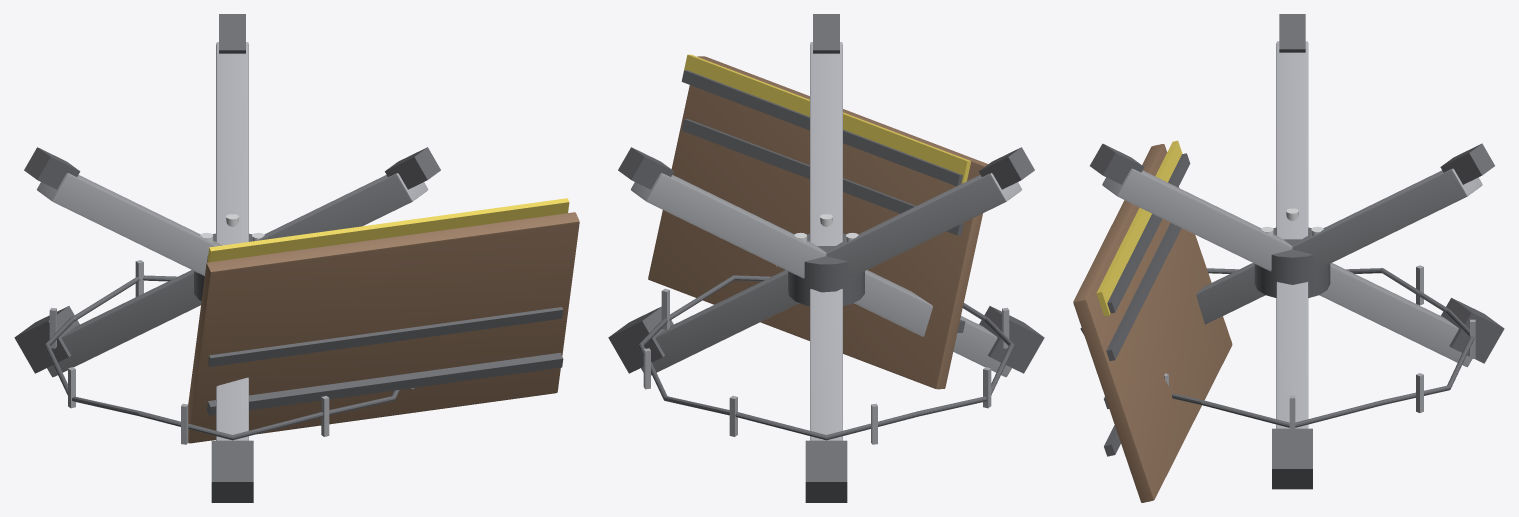
Rendered from DD_barricade_metal.fbx.
The picture shows the model from 3 angles, left to right: view 1: azimuth 30°, elevation 25°; view 2: azimuth 150°, elevation 25°; view 3: azimuth 270°, elevation 25°; orthographic projection. The views are drawn at different scales.
Parts seen in each view (by area): view 1: DD_barricade_metal; view 2: DD_barricade_metal; view 3: DD_barricade_metal.
Boxes of the visible parts, x1=… form: DD_barricade_metal: x1=14, y1=14, x2=579, y2=502; DD_barricade_metal: x1=608, y1=14, x2=1044, y2=502; DD_barricade_metal: x1=1073, y1=14, x2=1504, y2=502.
Size of the model in its own units: 1.74 by 1.14 by 1.48.
